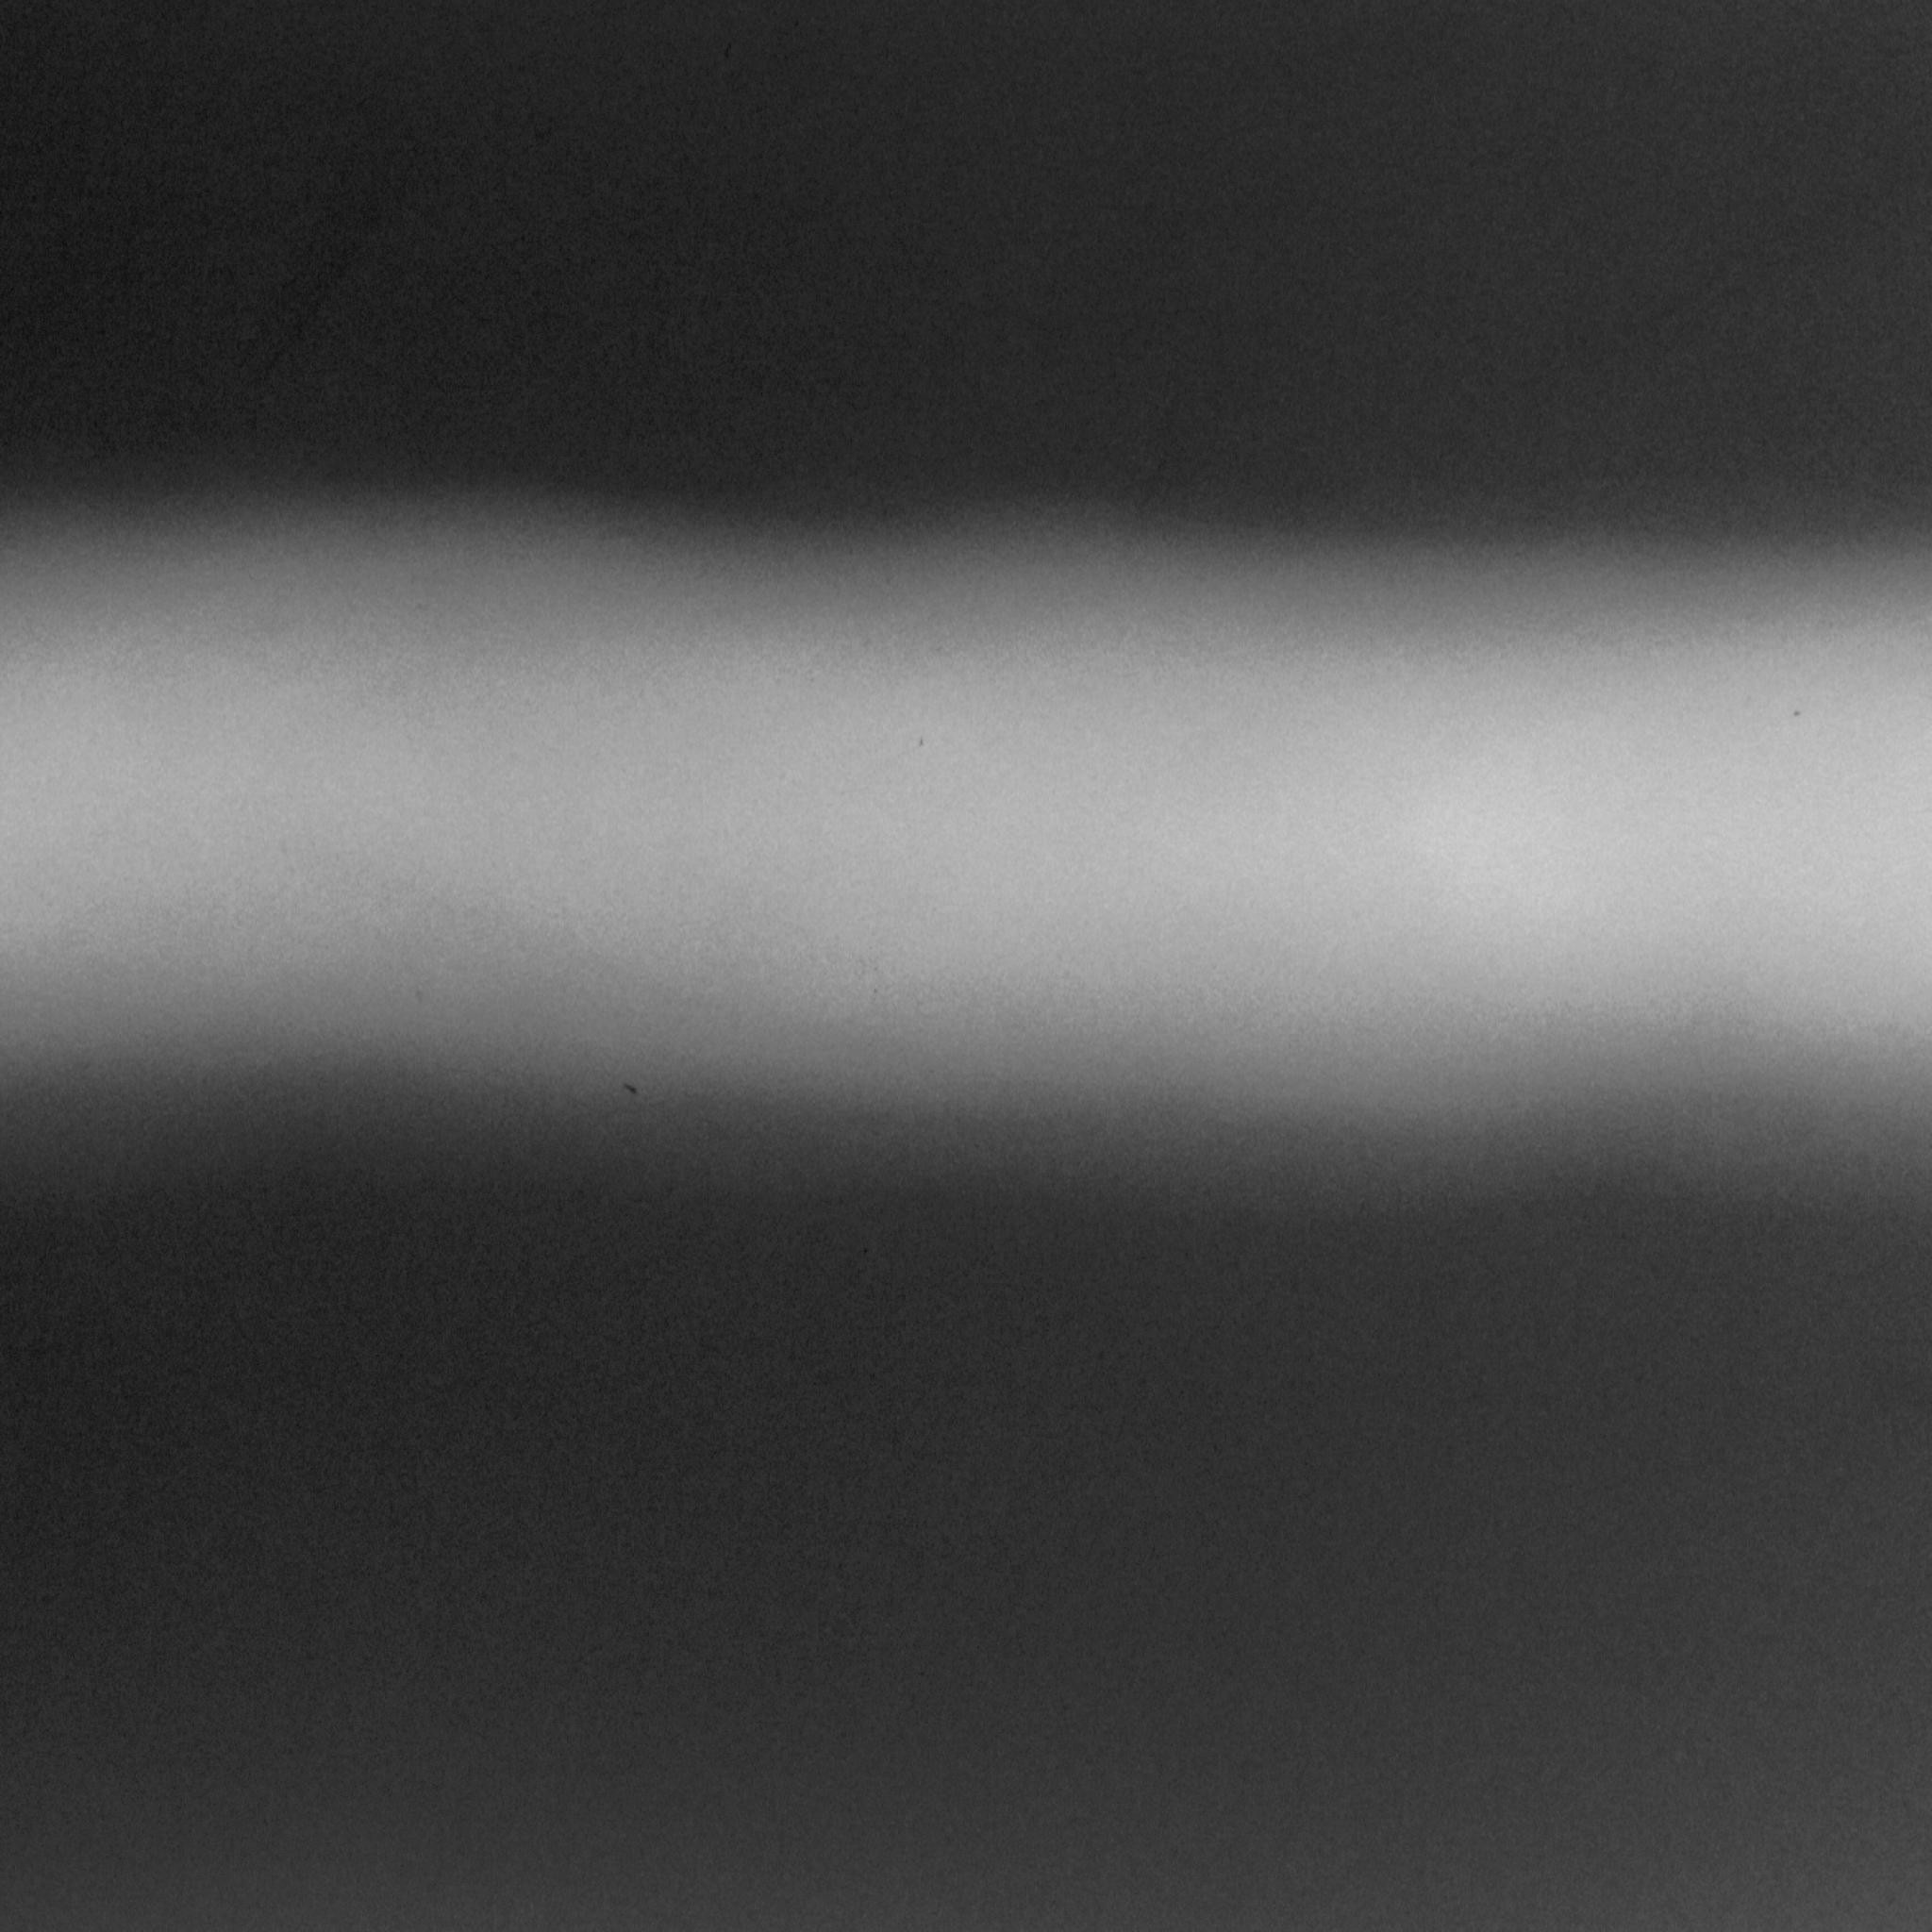PO: (610, 1072, 651, 1109), (908, 727, 934, 757), (1783, 701, 1810, 729)
